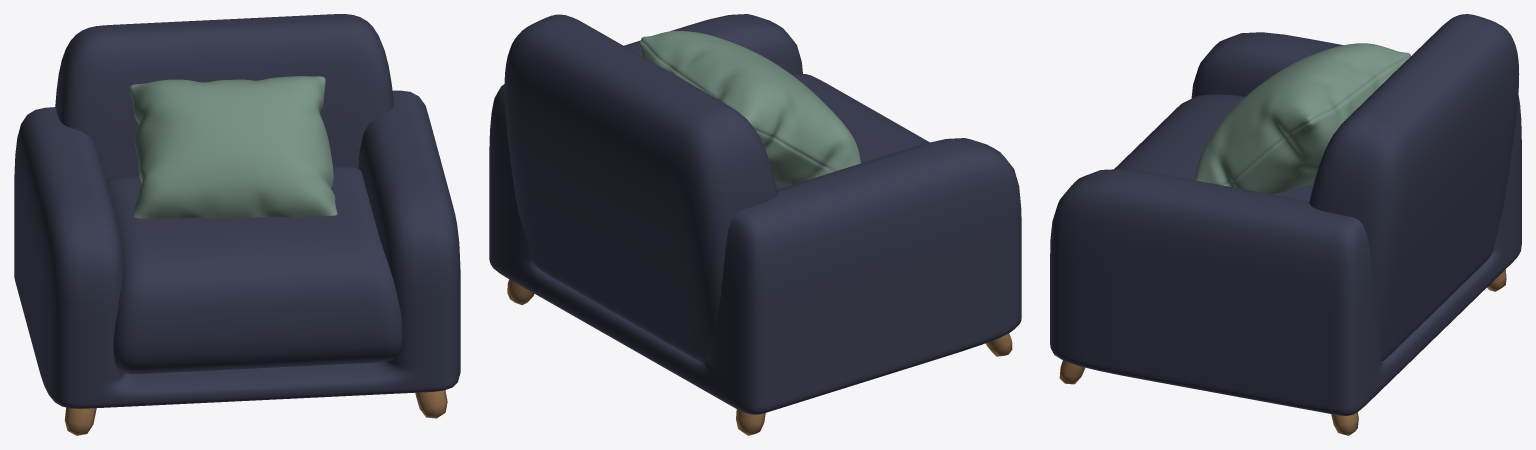
Rendered from Singgle Sofa With Pillow.glb.
3 renders of one model, left to right at view 1: azimuth 30°, elevation 25°; view 2: azimuth 150°, elevation 25°; view 3: azimuth 270°, elevation 25°, orthographic. The views are drawn at different scales.
Visible parts, largest first — view 1: Cube.386, Cube.387, Cube.405, Plane.012, Plane.437; view 2: Cube.386, Cube.405, Plane.012, Cube.387, Plane.437; view 3: Cube.386, Cube.405, Plane.012, Cube.387, Plane.437.
Part boxes in pixels (x1,y1,x2,y2): Cube.386: (14, 90, 460, 408); Cube.387: (106, 166, 402, 374); Cube.405: (55, 14, 393, 180); Plane.012: (129, 76, 337, 218); Plane.437: (64, 390, 447, 435); Cube.386: (489, 14, 1021, 414); Cube.405: (504, 14, 777, 362); Plane.012: (639, 31, 860, 184); Cube.387: (776, 73, 929, 189); Plane.437: (507, 279, 1012, 435); Cube.386: (1050, 32, 1521, 415); Cube.405: (1309, 14, 1519, 361); Plane.012: (1194, 43, 1410, 194); Cube.387: (1114, 94, 1313, 201); Plane.437: (1059, 269, 1506, 435).
Size of the model in its own units: 3.07 by 1.92 by 2.79.
